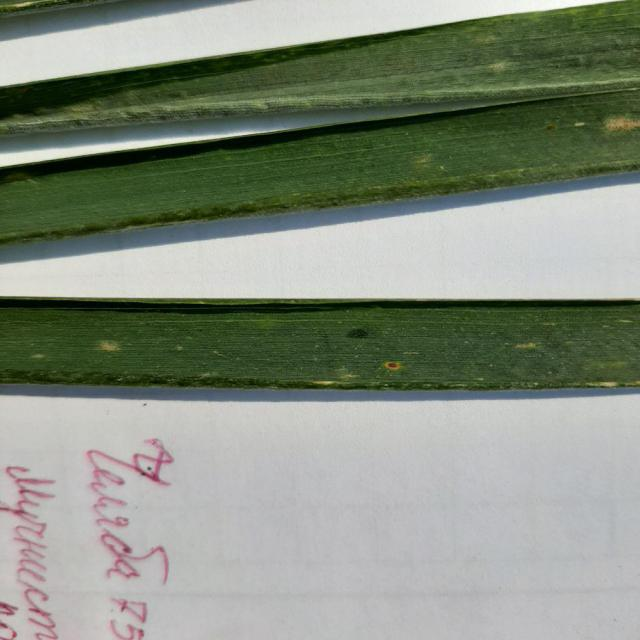wheat-powdery-mildew: (0, 302, 640, 392), (537, 106, 640, 147)
